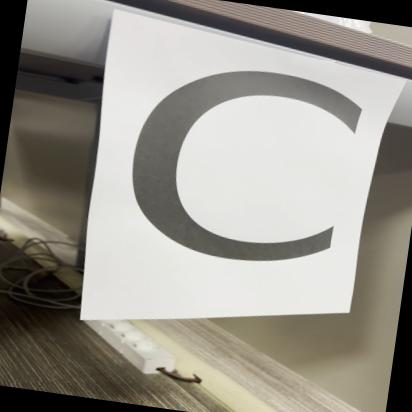seat: (87, 30, 399, 327)
